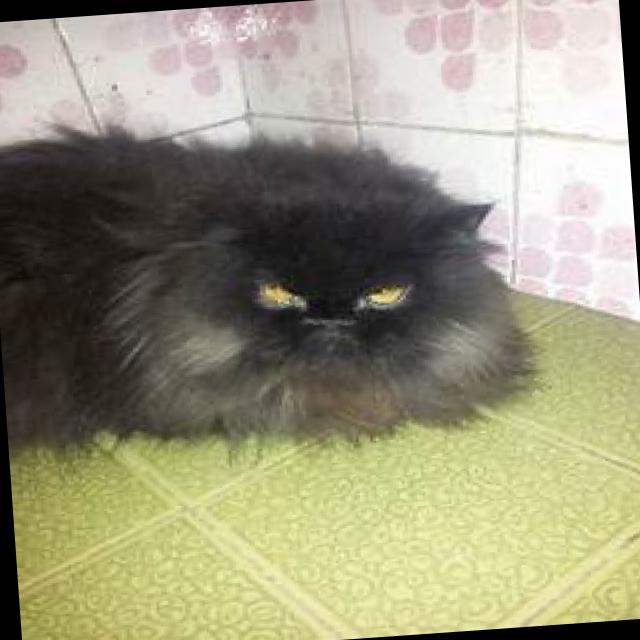animal: (0, 85, 546, 467)
